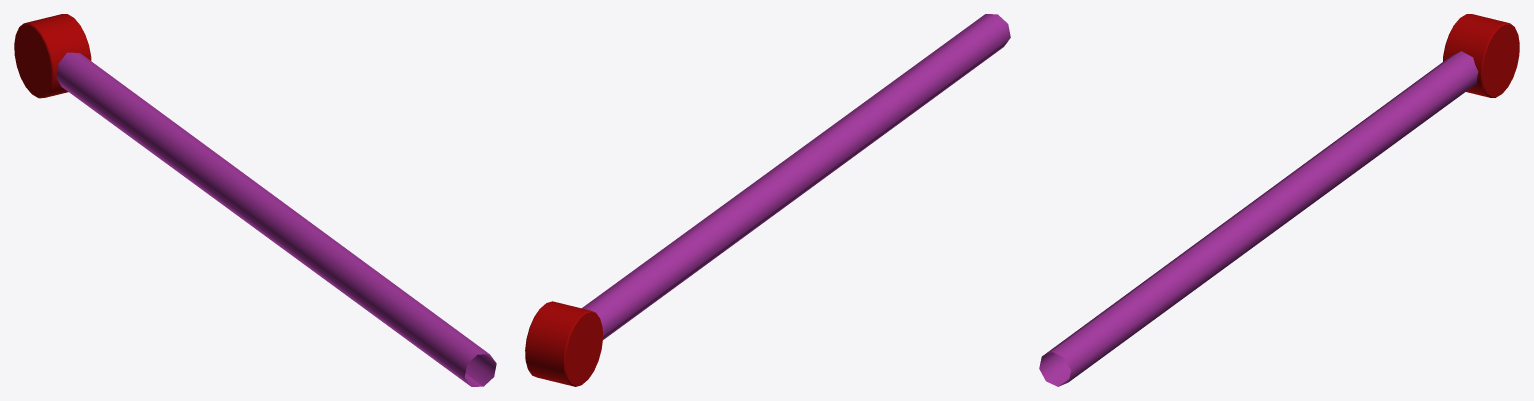
The model's file is ExcavatorMachine_Cylinder02_01a_snaps005.fbx.
The picture shows the model from 3 angles, left to right: view 1: azimuth 30°, elevation 25°; view 2: azimuth 150°, elevation 25°; view 3: azimuth 330°, elevation 25°; orthographic projection.
Visible parts, largest first — view 1: ExcavatorMachine_Cylinder02_01a_snaps005_LOD0; view 2: ExcavatorMachine_Cylinder02_01a_snaps005_LOD0; view 3: ExcavatorMachine_Cylinder02_01a_snaps005_LOD0.
Part boxes in pixels (box(x1,y1,x2,y2)): ExcavatorMachine_Cylinder02_01a_snaps005_LOD0: box(14, 14, 496, 386); ExcavatorMachine_Cylinder02_01a_snaps005_LOD0: box(525, 14, 1010, 386); ExcavatorMachine_Cylinder02_01a_snaps005_LOD0: box(1039, 14, 1519, 386).
Size of what is drawn, in the model's own units: 12.08 by 20.24 by 234.
